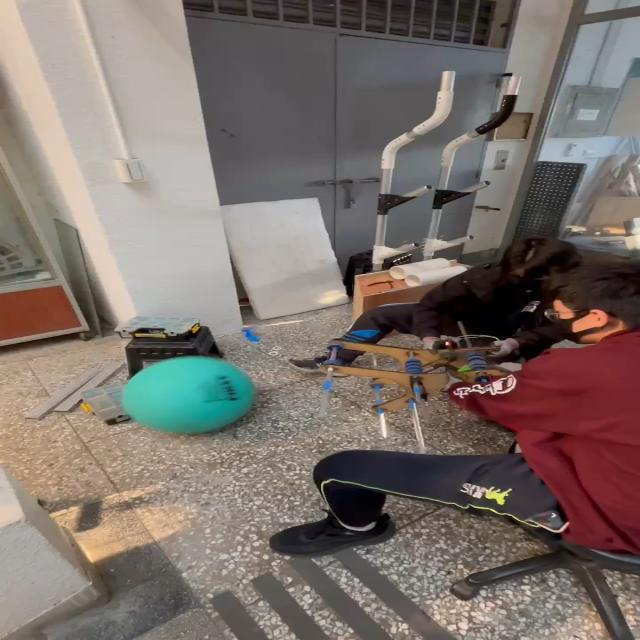ALGAE: (119, 354, 257, 436)
